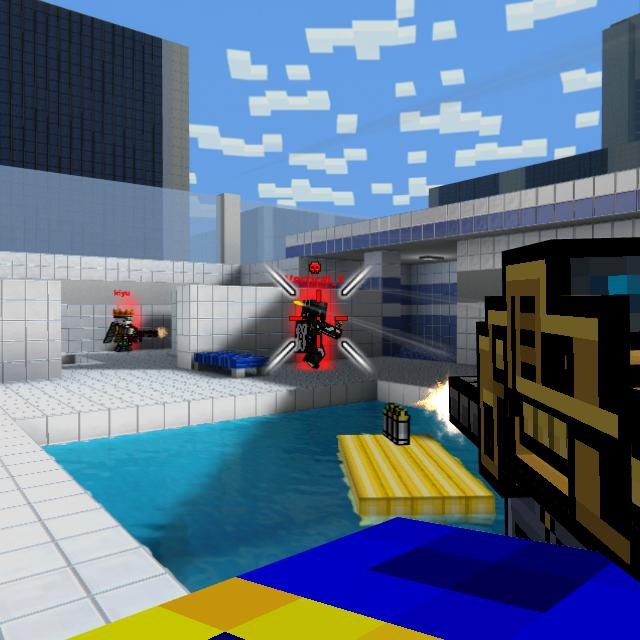Enemy: (293, 299, 339, 371), (108, 309, 141, 352)
